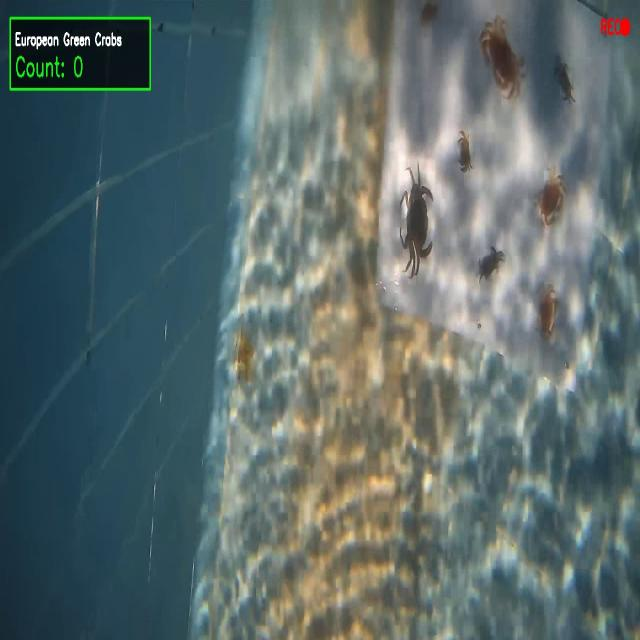European_Green_Crab: (397, 158, 437, 287), (473, 233, 507, 291), (549, 51, 579, 111)
